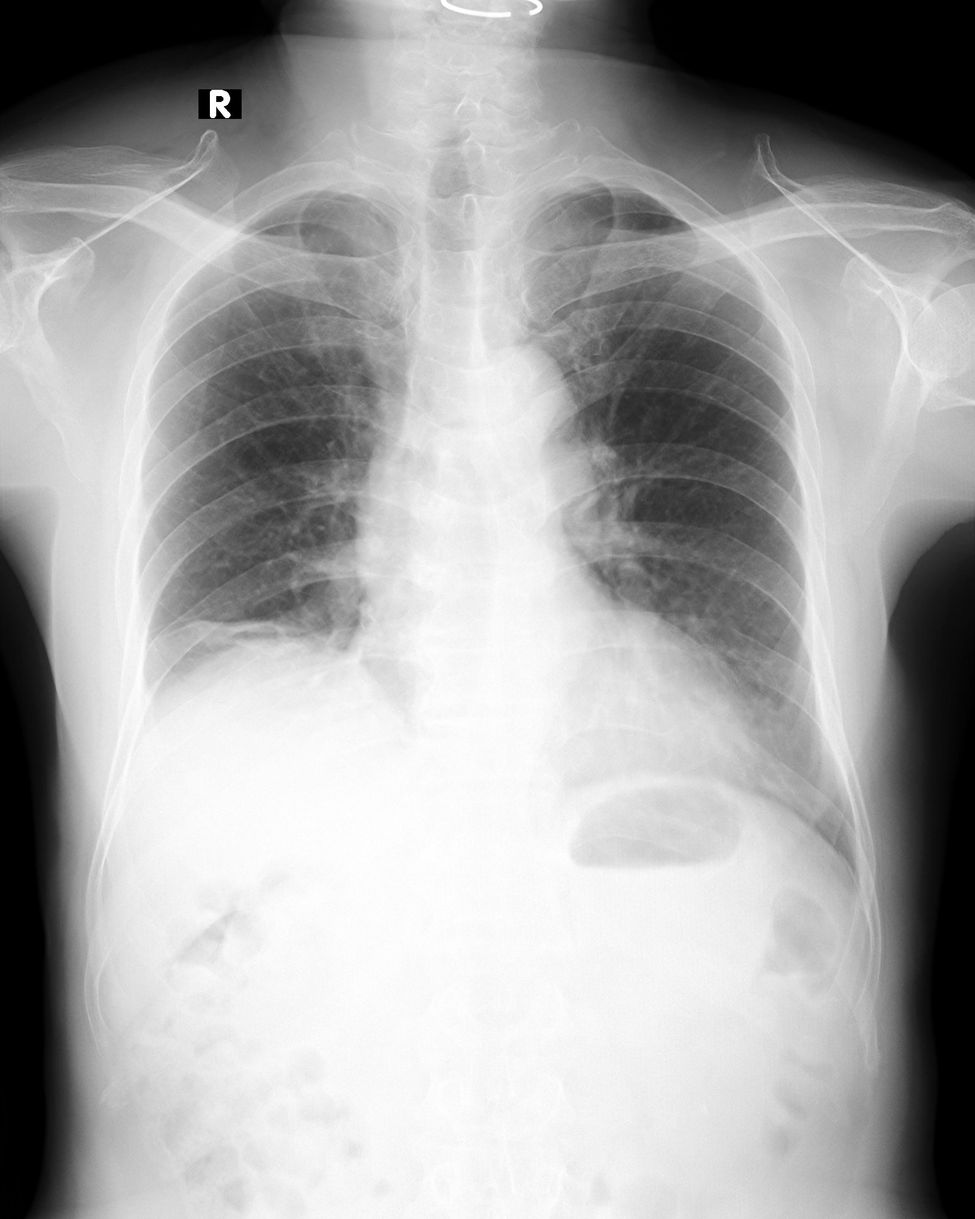Aortic enlargement: (476, 347, 576, 447)
Cardiomegaly: (341, 587, 770, 821)
Pulmonary fibrosis: (97, 595, 326, 765)
